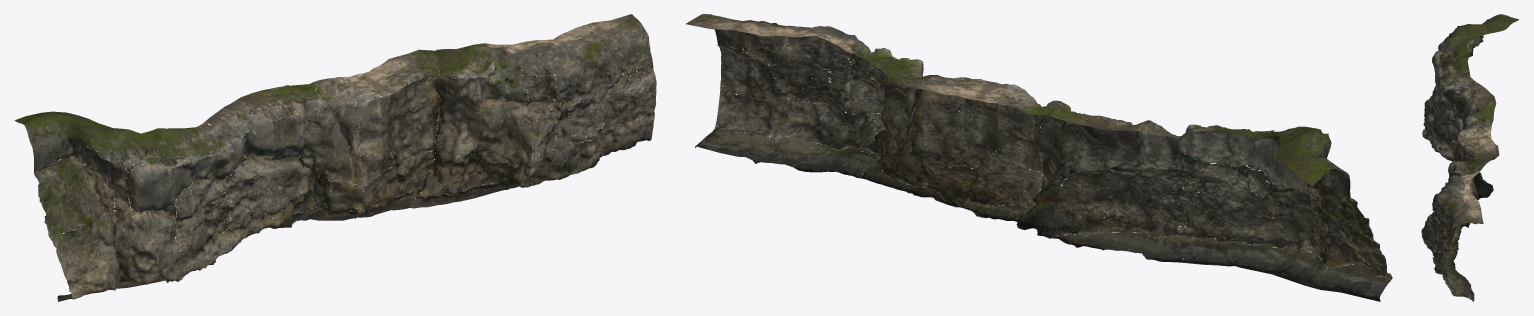
File: cliff_b.glb
The picture shows the model from 3 angles, left to right: view 1: azimuth 30°, elevation 25°; view 2: azimuth 150°, elevation 25°; view 3: azimuth 270°, elevation 25°; orthographic projection. The views are drawn at different scales.
Visible parts, largest first — view 1: coastal_cliff_02_LOD0; view 2: coastal_cliff_02_LOD0; view 3: coastal_cliff_02_LOD0.
Part boxes in pixels (x1,y1,x2,y2): coastal_cliff_02_LOD0: (14,14,656,301); coastal_cliff_02_LOD0: (686,14,1392,301); coastal_cliff_02_LOD0: (1421,14,1518,301).
Size of the model in its own units: 40.96 by 10.07 by 8.64.
Materials: 1 (1 with a texture image).
